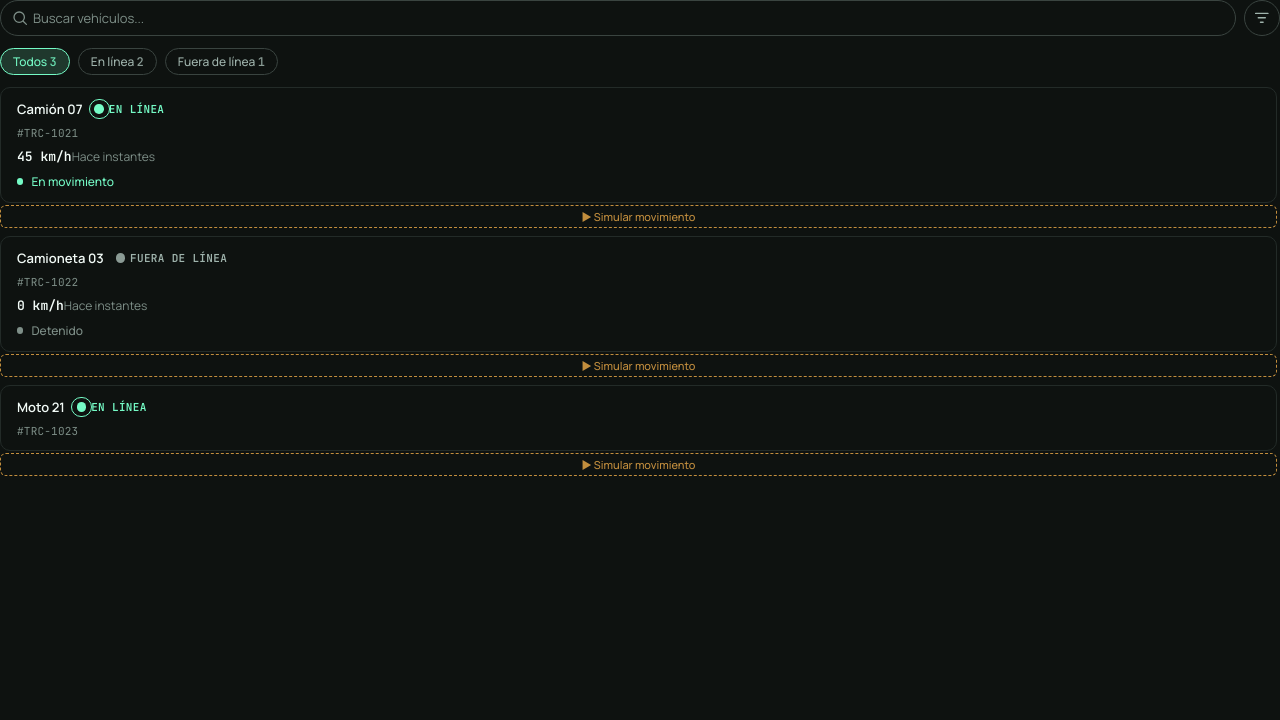
Scenario: <DeviceListPanel /> › filtros avanzados (Assets/displayComponentFilters.png) › filtrar por 'En movimiento' excluye al detenido y al que no tiene dato de posición
The image size is (1280, 720).
Click the button named "Filtros avanzados" at (1262, 18), box [1244,0,1279,36]
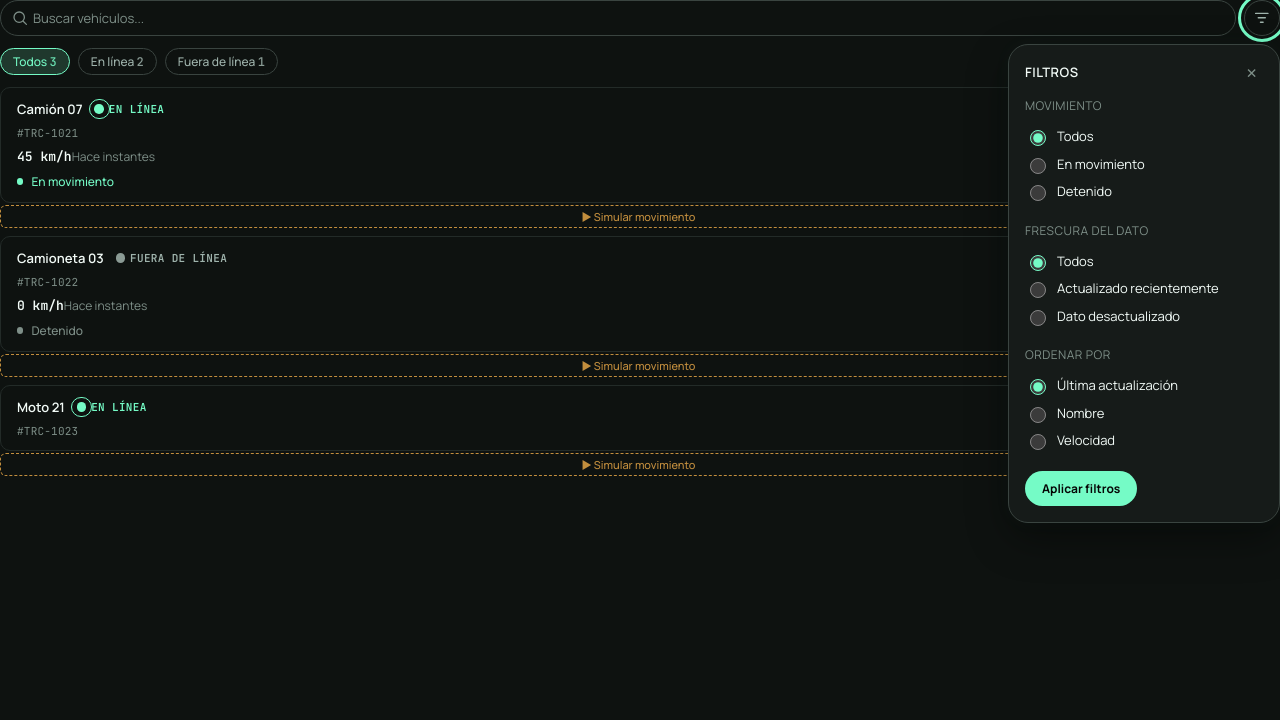
Click the radio button labelled "En movimiento" at (1038, 166), box [1030,158,1046,174]
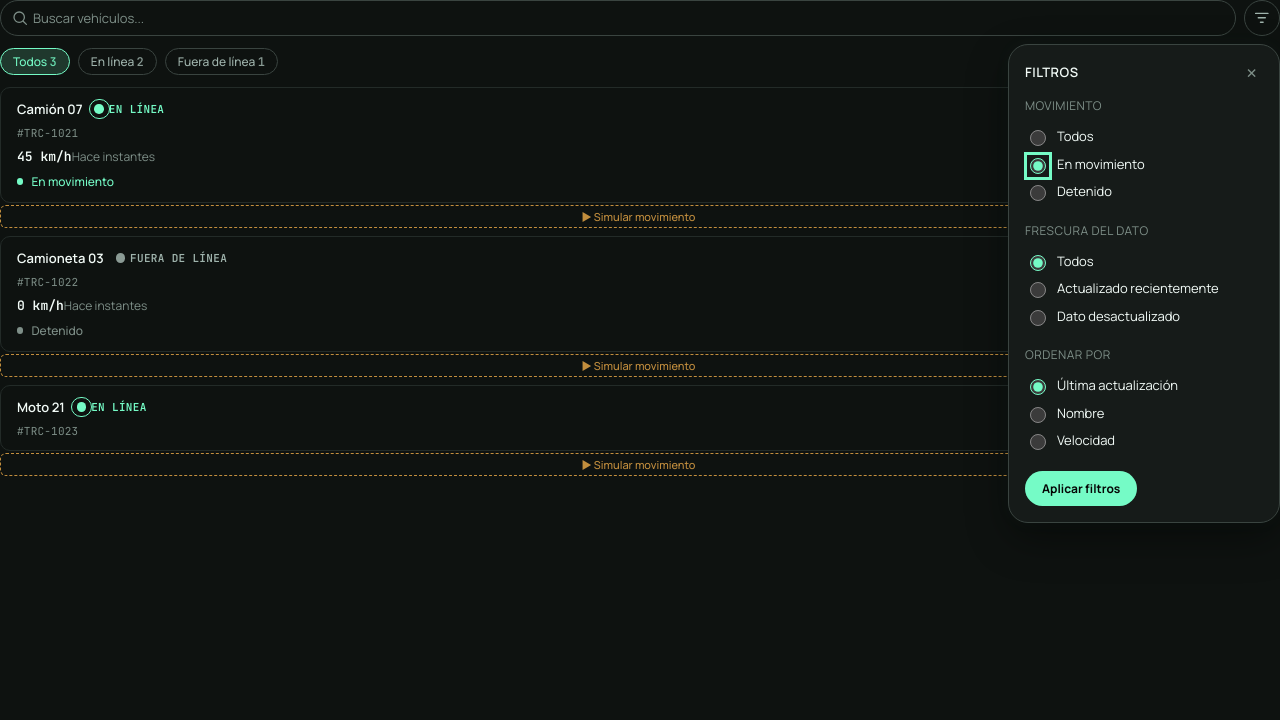
Click the button "Aplicar filtros" at (1081, 488), box [1025,470,1137,506]
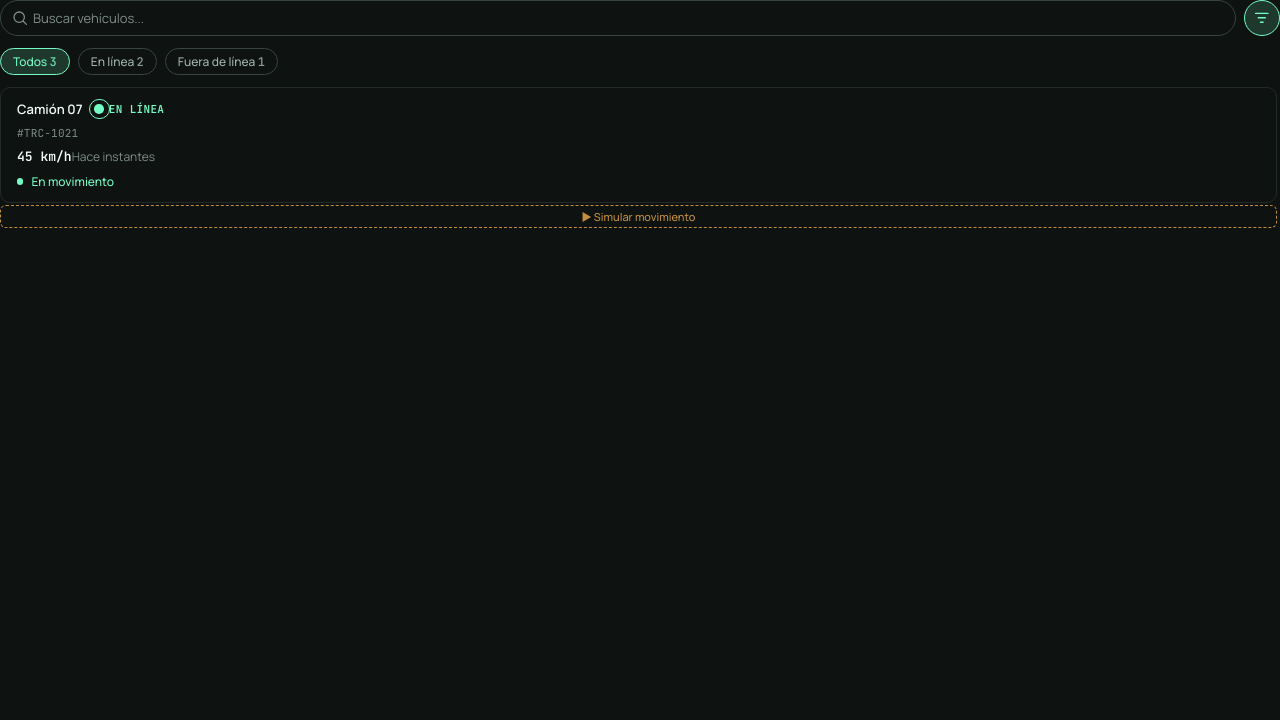
Check: the text "Camión 07" is shown, box [17,100,82,118]
Check: the button "Camioneta 03" is gone
Check: the button "Moto 21" is gone
